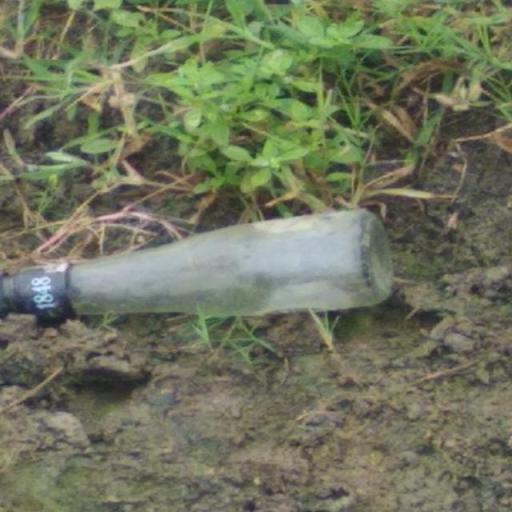glass: (0, 190, 420, 332)
